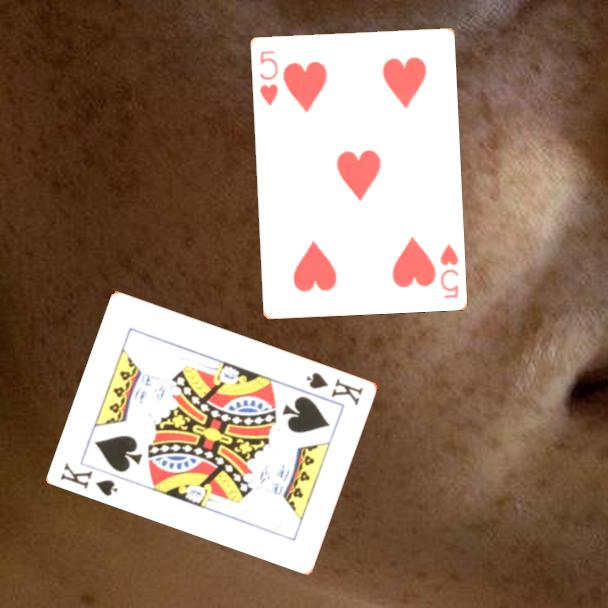h05: (256, 47, 281, 109), (436, 240, 461, 301)
s13: (57, 459, 121, 499), (303, 369, 366, 408)
